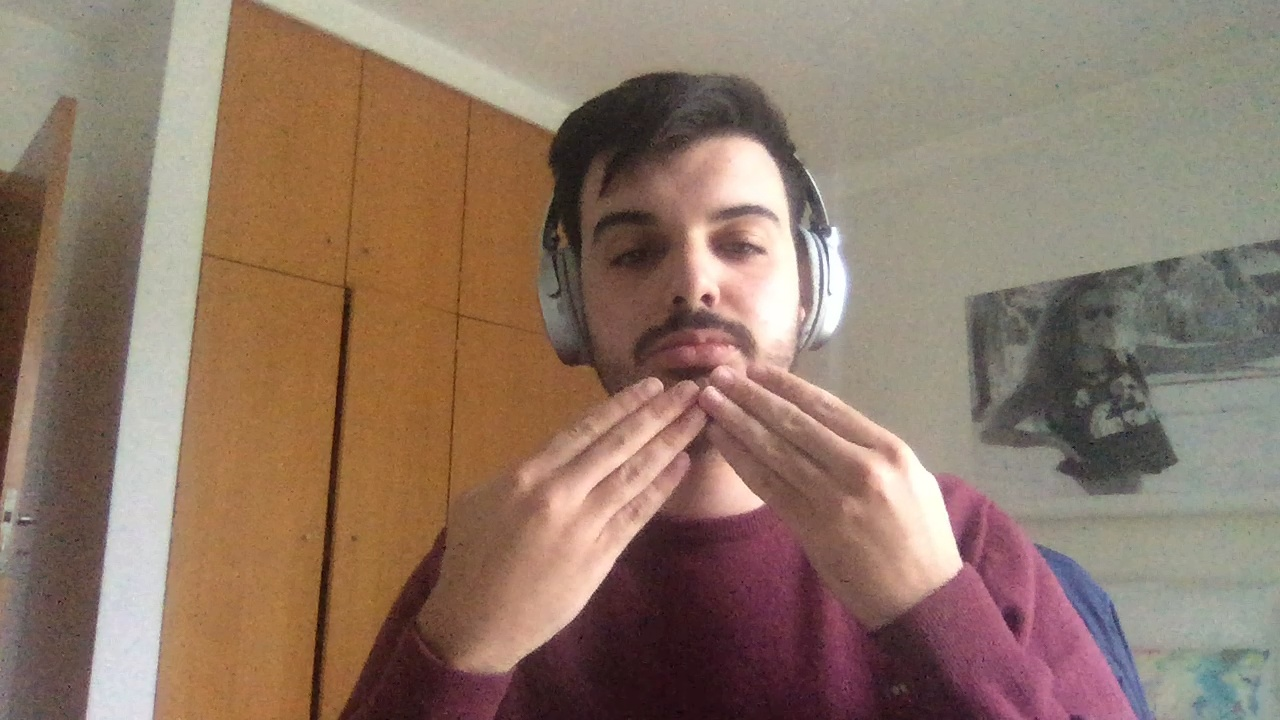ThankYou: (444, 361, 953, 589)
